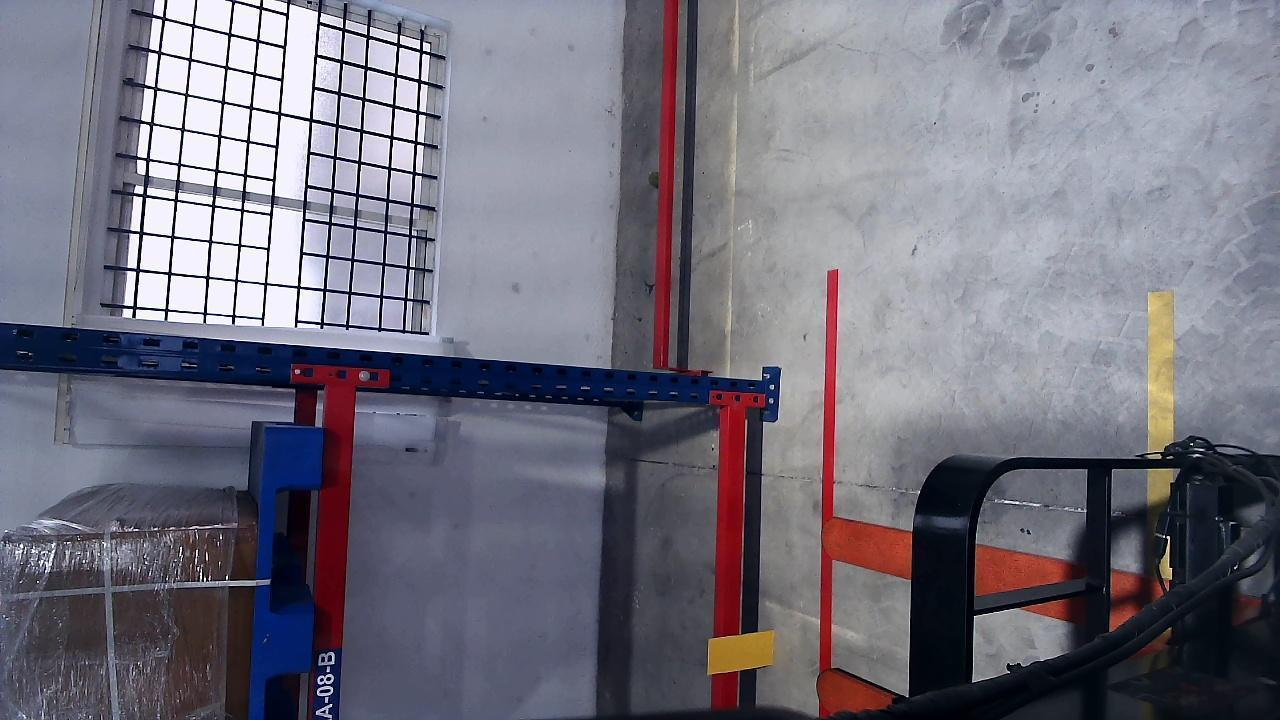red_line: (814, 268, 844, 717)
yellow_line: (1145, 290, 1175, 453)
